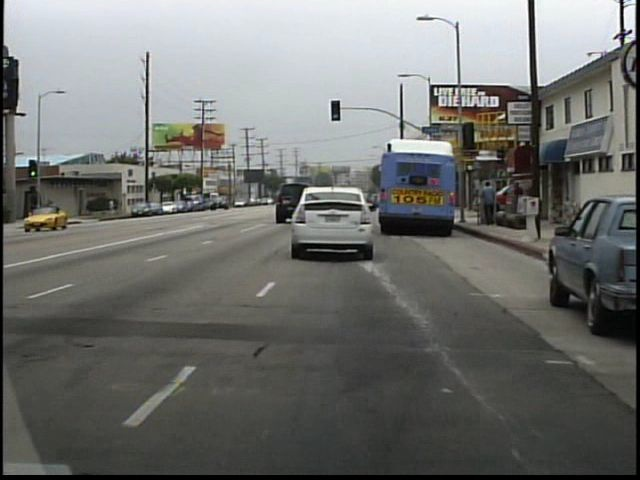person: (476, 180, 498, 229), (108, 195, 119, 217)
